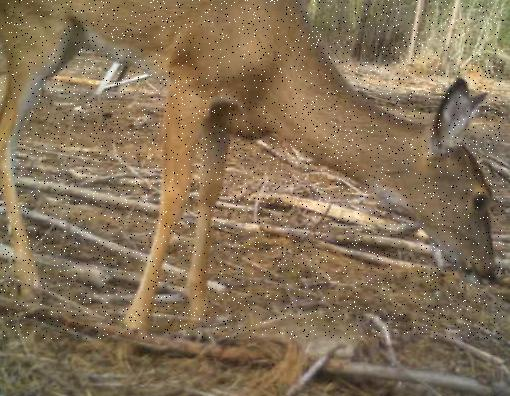Deer: (0, 0, 504, 339)
